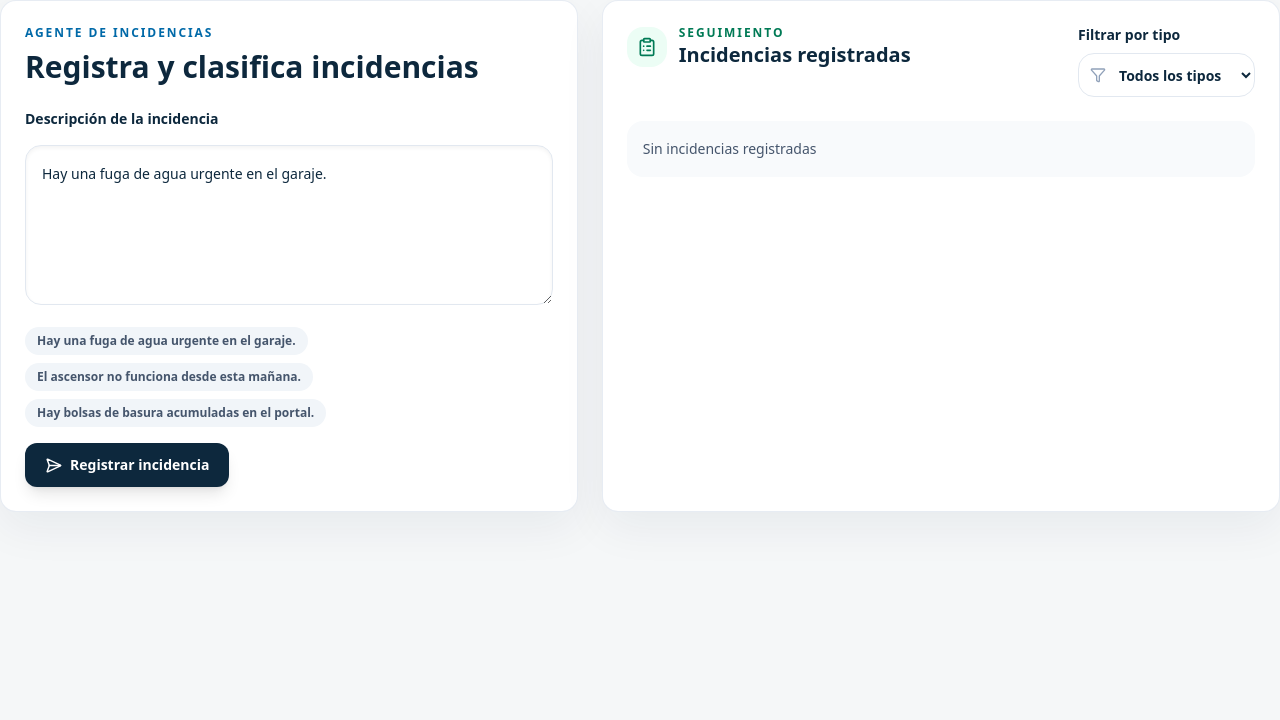
IncidentsPanel › muestra validación para descripciones demasiado cortas
The width and height of the screenshot is (1280, 720).
Expected: the text "Sin incidencias registradas" is shown, 627,121 -> 1255,177
Replace the text in the text box labelled "Descripción de la incidencia" with "Fuga" at coordinates (289, 225), box 25,145 -> 553,305
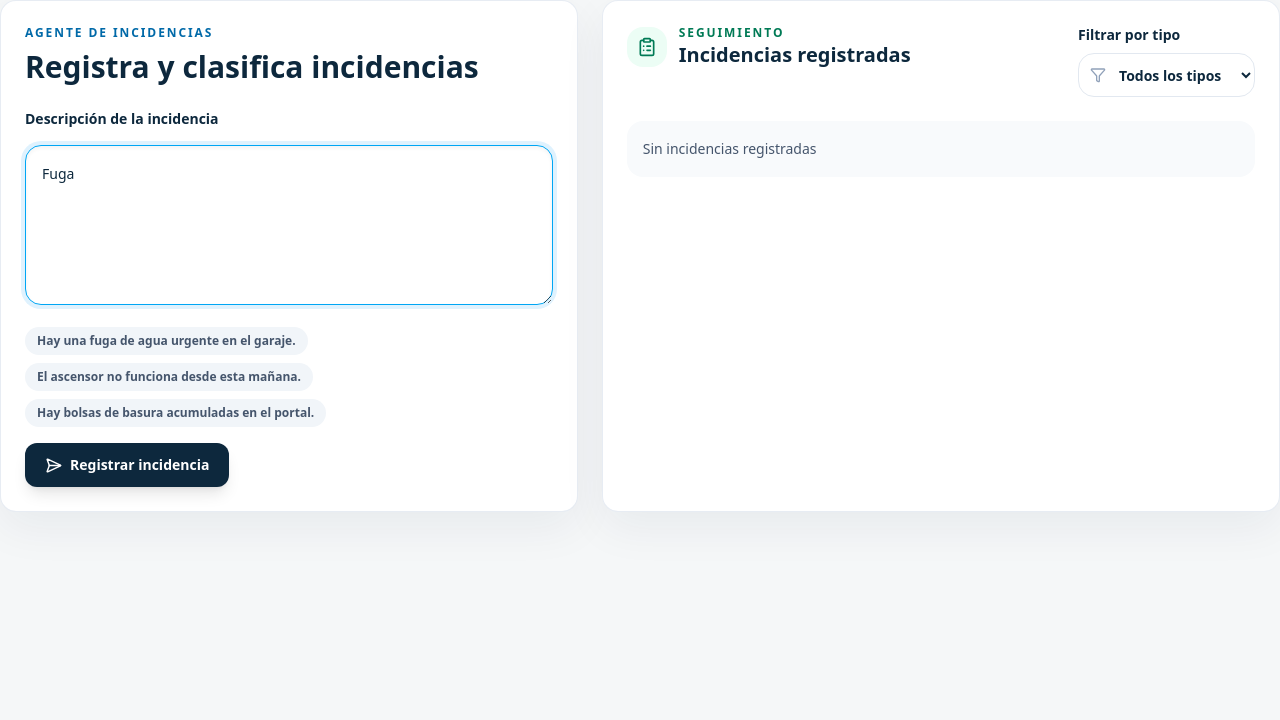
Click the button "Registrar incidencia" at coordinates (127, 465), box 25,443 -> 229,487
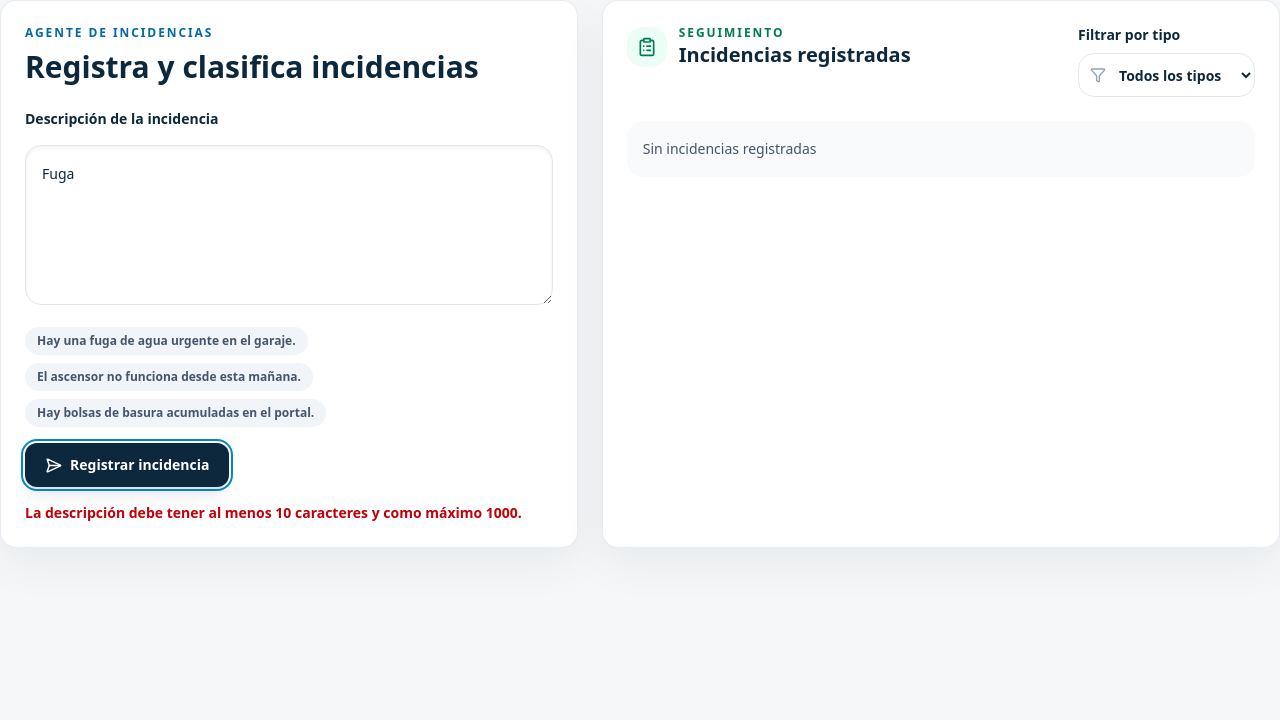
Expected: the text "al menos 10 caracteres" is shown, 25,503 -> 522,522
